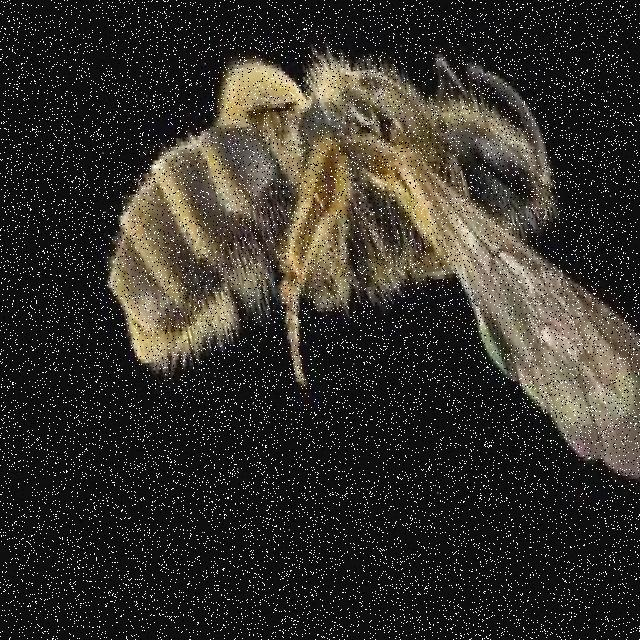Lasioglossum: (63, 19, 640, 550)
